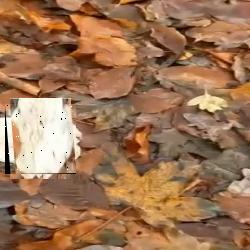restaffald: (5, 104, 76, 174)
